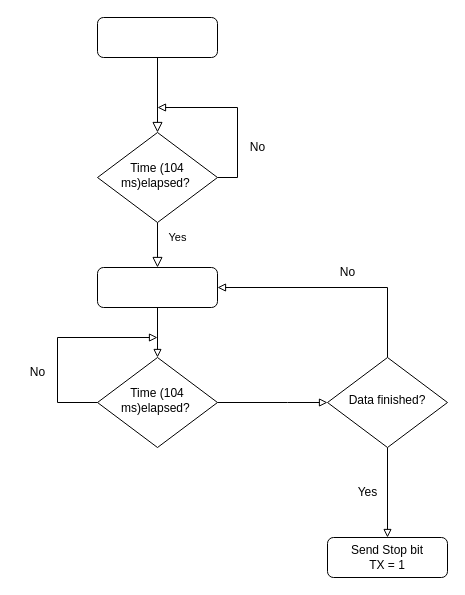
This 465x595 diagram has some shape labels left out. Each missing label, with the centre of its shape:
"Send data bit" goes at point 157,287.
"Send Start bit TX = 0;" goes at point 157,37.
